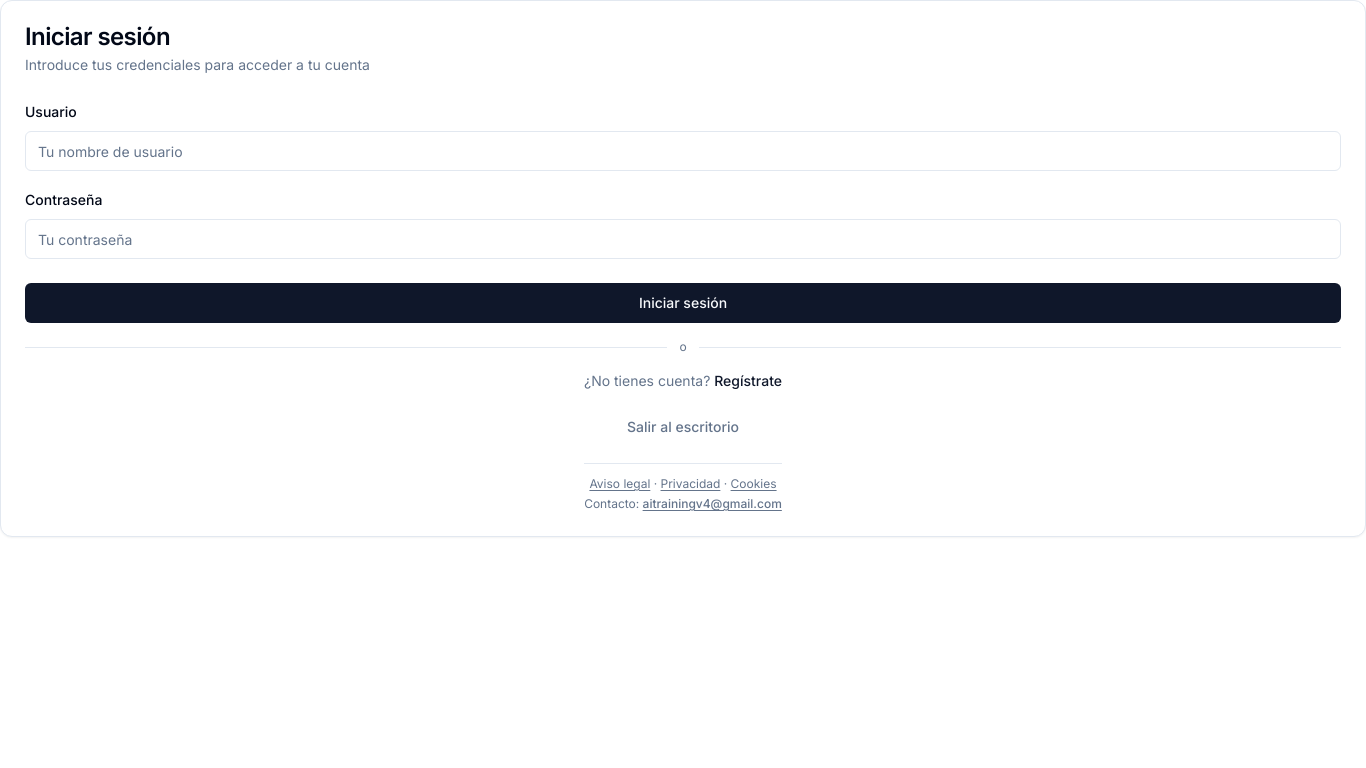
Test: LoginPage › muestra el error del servidor si el login falla
Step 1. Type "pedro" into the field labelled "Usuario" → (683,151), box [25,131,1341,171]
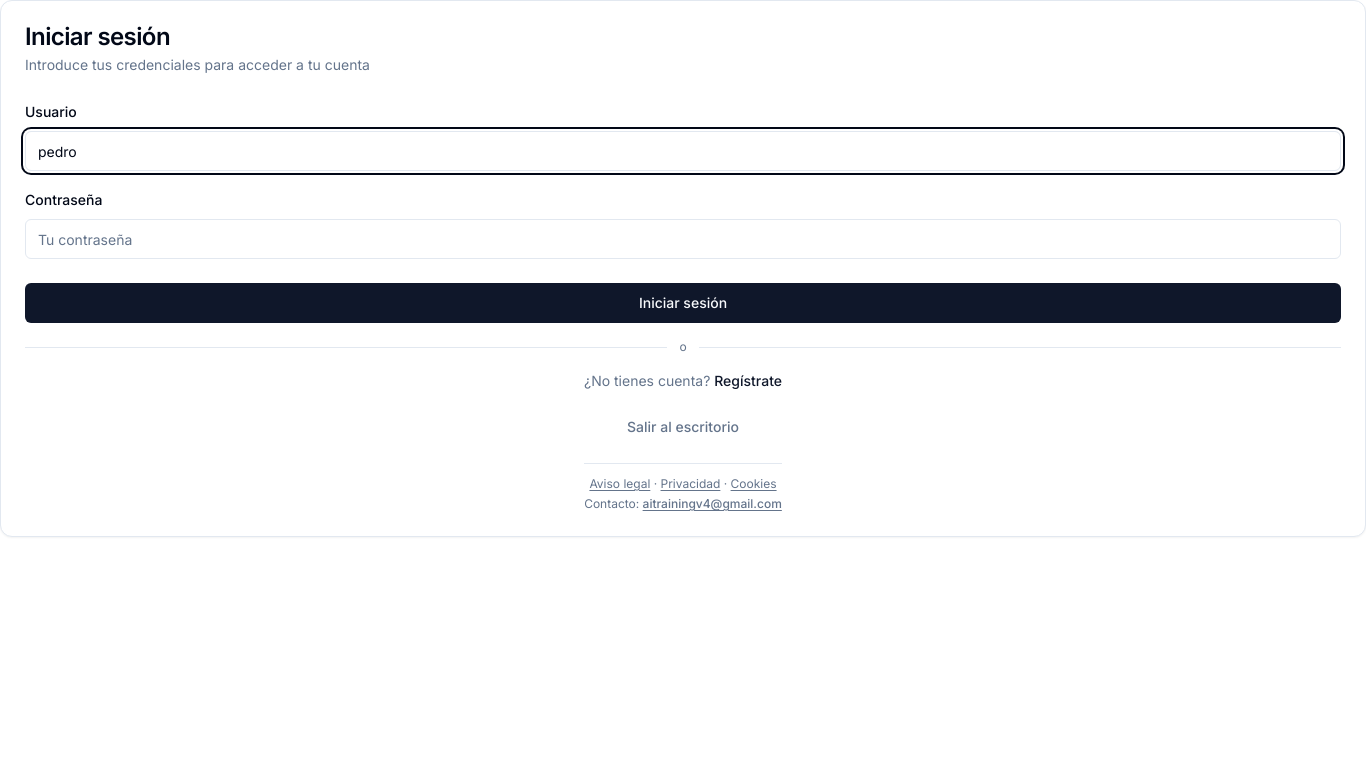
Step 2. Type "malaclave" into the password field labelled "Contraseña" → (683,239), box [25,219,1341,259]
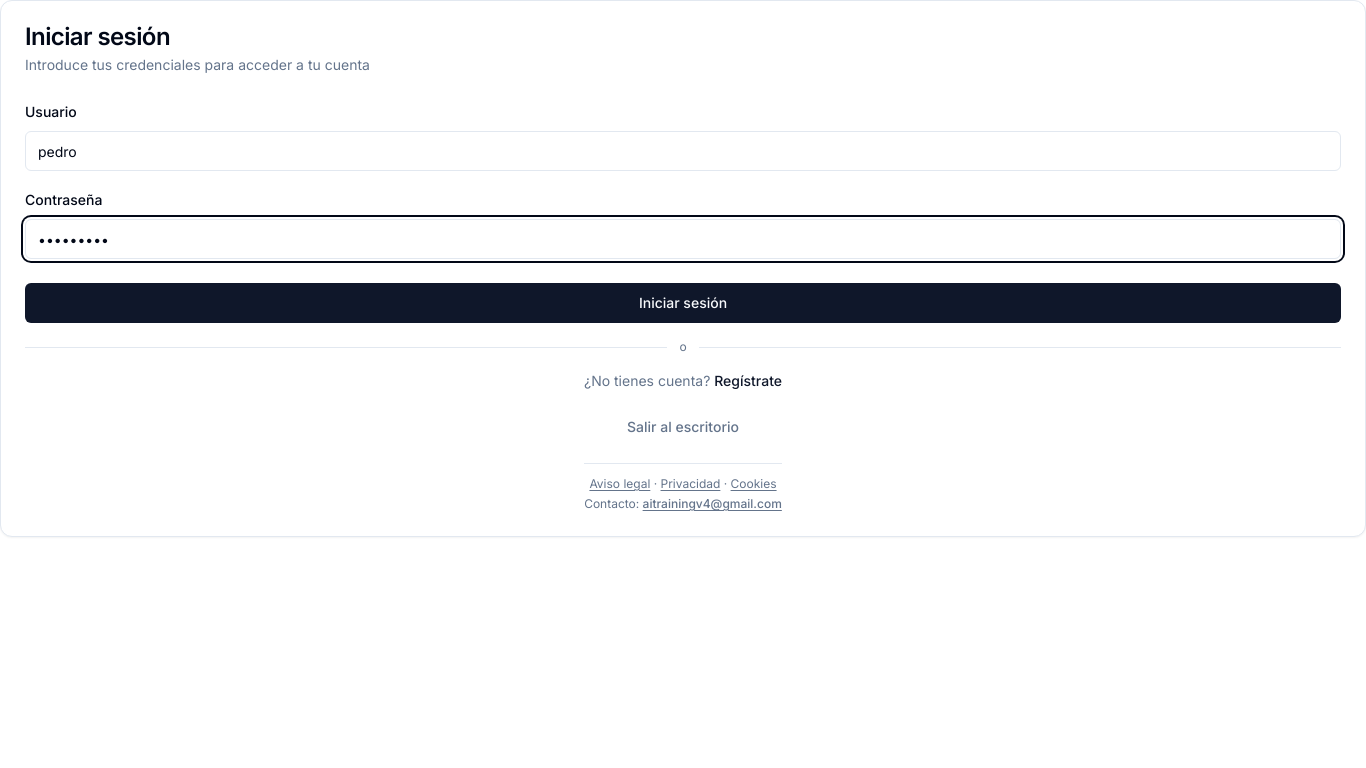
Step 3. Click the button "Iniciar sesión" → (683,303), box [25,283,1341,323]
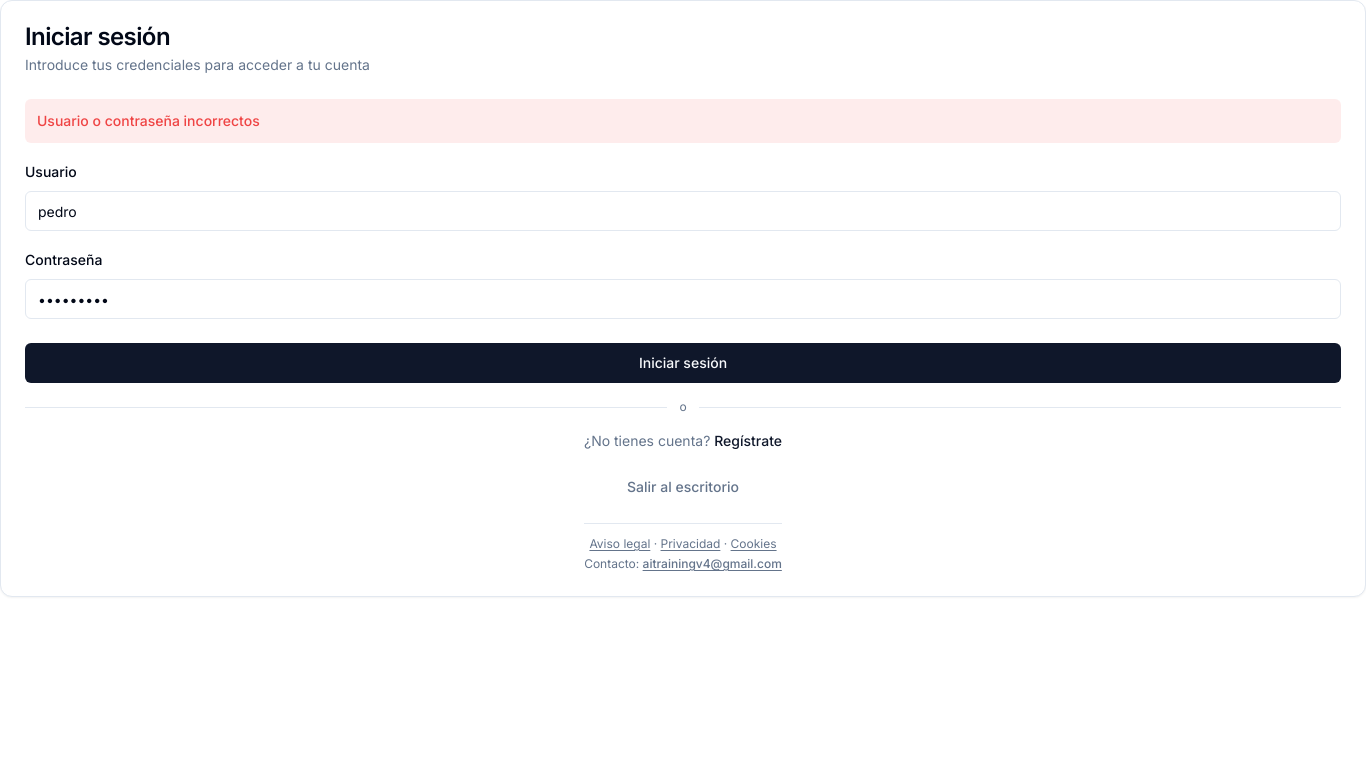
Now the text "Usuario o contraseña incorrectos" is shown, box [25,99,1341,143]
